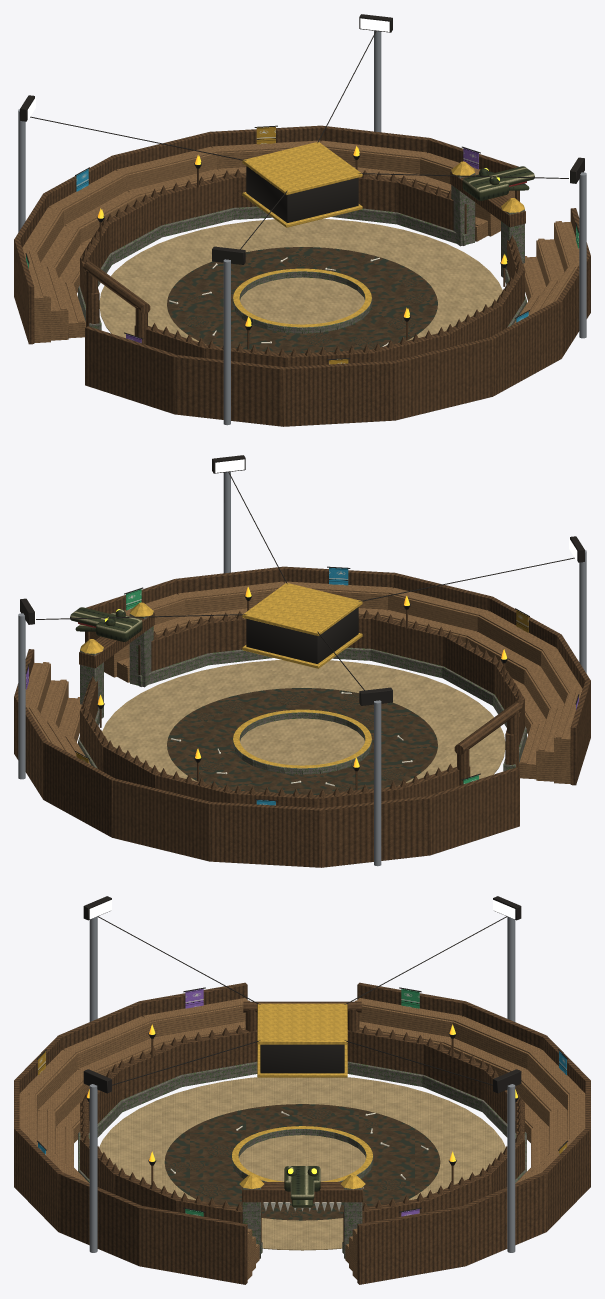
Rendered from pit-arena.glb.
3 renders of one model, top to bottom at view 1: azimuth 30°, elevation 25°; view 2: azimuth 150°, elevation 25°; view 3: azimuth 270°, elevation 25°, orthographic.
Parts seen in each view (by area): view 1: pit-arena; view 2: pit-arena; view 3: pit-arena.
Part boxes in pixels (bbox=[...]): pit-arena: bbox=[14, 14, 590, 426]; pit-arena: bbox=[14, 455, 590, 867]; pit-arena: bbox=[14, 896, 590, 1284].
Bounding box in the file's own units: 41.01 × 13.7 × 41.01.
19 materials, 11 textured.
